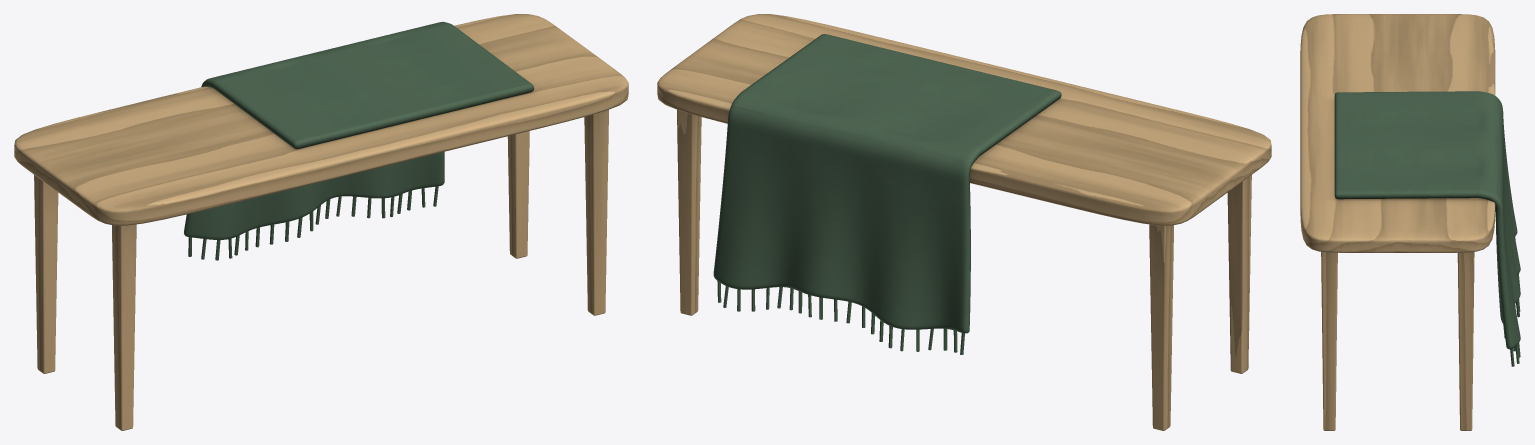
File: wool-green.glb
3 renders of one model, left to right at view 1: azimuth 30°, elevation 25°; view 2: azimuth 150°, elevation 25°; view 3: azimuth 270°, elevation 25°, orthographic. The views are drawn at different scales.
Parts seen in each view (by area): view 1: bench_wood, throw_knit, bench_wood_v; view 2: throw_knit, bench_wood, bench_wood_v; view 3: bench_wood, throw_knit, bench_wood_v.
Part boxes in pixels (bbox=[...]): bench_wood: bbox=[14, 14, 628, 225]; throw_knit: bbox=[184, 21, 534, 260]; bench_wood_v: bbox=[34, 109, 608, 430]; throw_knit: bbox=[713, 34, 1061, 354]; bench_wood: bbox=[657, 14, 1271, 225]; bench_wood_v: bbox=[677, 109, 1251, 430]; bench_wood: bbox=[1300, 14, 1495, 252]; throw_knit: bbox=[1334, 91, 1520, 366]; bench_wood_v: bbox=[1321, 252, 1474, 430].
Size of the model in its own units: 1.1 by 0.4787 by 0.4518.
3 materials, 3 textured.
